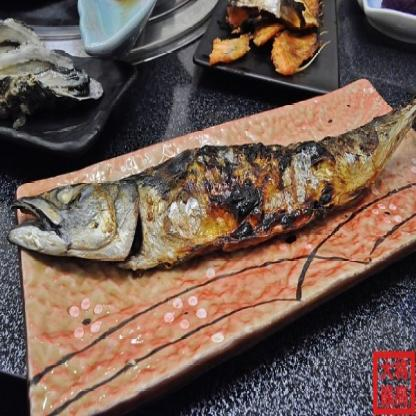Peixe: (6, 87, 416, 298)
